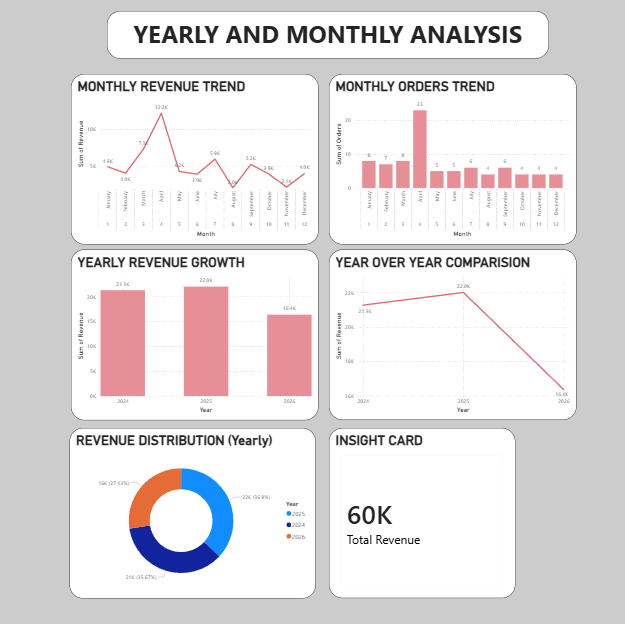

What the dashboard file says about the page in this screenshot:
{"tool":"powerbi","page":{"name":"Yearly and Monthly Analysis","canvas":[1400,1400],"ordinal":2},"visuals":[{"type":"textbox","box":[248,34,982,106],"z":0},{"type":"lineChart","title":"MONTHLY REVENUE TREND","fields":{"Category":["monthly_sales.MonthNo","monthly_sales.Month"],"Y":["Sum(monthly_sales.Revenue)"]},"box":[165.9,172.2,550,378.6],"z":1000},{"type":"columnChart","title":"MONTHLY ORDERS TREND","fields":{"Category":["monthly_sales.MonthNo","monthly_sales.Month"],"Y":["Sum(monthly_sales.Orders)"]},"box":[739.7,172.2,550,378.6],"z":2000},{"type":"clusteredColumnChart","title":"YEARLY REVENUE GROWTH","fields":{"Category":["yearly_sales.Year"],"Y":["Sum(yearly_sales.Revenue)"]},"box":[165.4,561.7,550,379],"z":3000},{"type":"lineChart","title":"YEAR OVER YEAR COMPARISION","fields":{"Category":["yearly_sales.Year"],"Y":["Sum(yearly_sales.Revenue)"]},"box":[739.7,562.7,550,378.6],"z":4000},{"type":"donutChart","title":"REVENUE DISTRIBUTION (Yearly)","fields":{"Category":["yearly_sales.Year"],"Y":["Sum(yearly_sales.Revenue)"]},"box":[164.3,959.5,547.6,378.6],"z":5000},{"type":"cardVisual","title":"INSIGHT CARD","fields":{"Data":["customers.Total Revenue"]},"box":[740,960,414,378],"z":6000}]}

Visuals, with their boxes in screenshot pixels (x1, y1, x2, y2), scaled from the page's 1400x1400 canvas onto the 625x624 screenshot:
textbox: (111, 15, 549, 62)
"MONTHLY REVENUE TREND" lineChart: (74, 77, 320, 245)
"MONTHLY ORDERS TREND" columnChart: (330, 77, 576, 245)
"YEARLY REVENUE GROWTH" clusteredColumnChart: (74, 250, 319, 419)
"YEAR OVER YEAR COMPARISION" lineChart: (330, 251, 576, 420)
"REVENUE DISTRIBUTION (Yearly)" donutChart: (73, 428, 318, 596)
"INSIGHT CARD" cardVisual: (330, 428, 515, 596)
